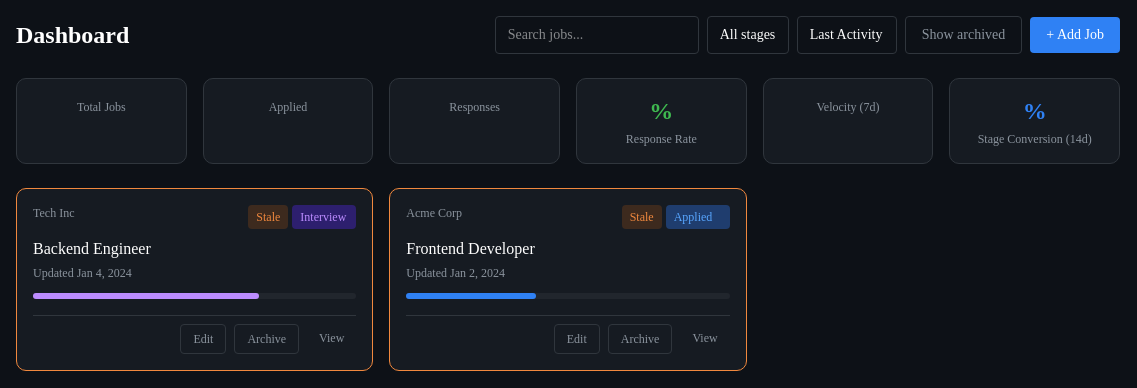
Test: DashboardPage - S2-001 Job Search › filters jobs by title
In the field with placeholder "Search jobs...": (597, 35) [495, 16, 699, 54], type "Frontend"
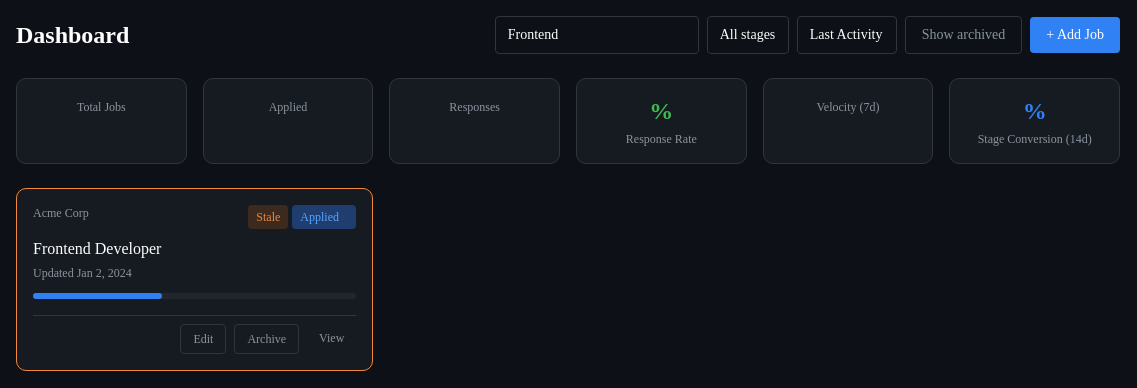
Expected: the heading "Frontend Developer" is shown, [33, 240, 161, 257]
Expected: the link "Backend Engineer" is gone
